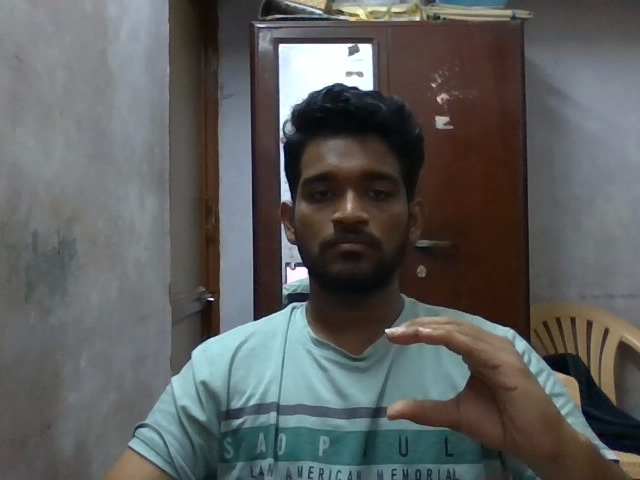C: (371, 313, 569, 474)
